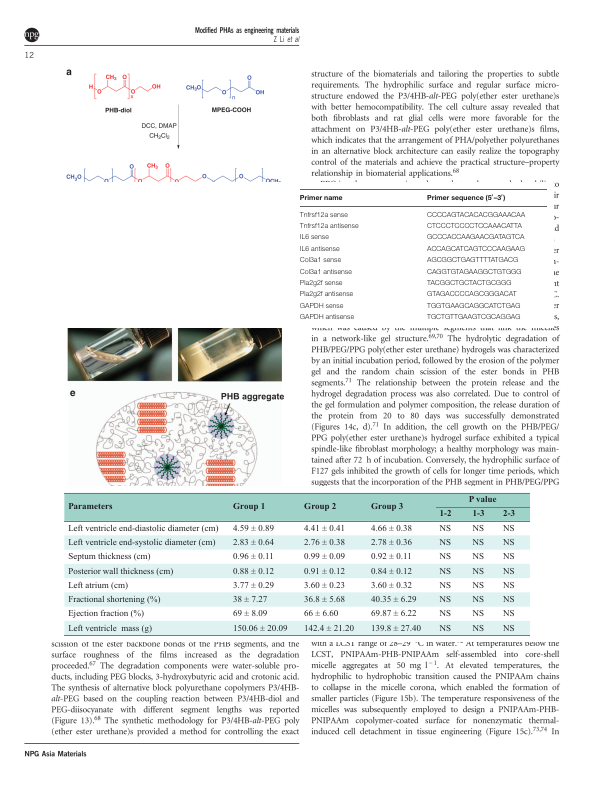borderless: (63, 491, 530, 635), (298, 187, 548, 322)
cell: (66, 524, 219, 534), (66, 538, 216, 548), (66, 567, 174, 577), (66, 595, 161, 605), (66, 552, 151, 563), (426, 211, 526, 220), (426, 245, 526, 254), (426, 222, 522, 231), (66, 624, 152, 634), (66, 609, 144, 620), (426, 313, 521, 322), (426, 256, 519, 265), (426, 234, 525, 242), (426, 279, 512, 288), (426, 268, 522, 276), (426, 302, 521, 310), (426, 291, 517, 299), (426, 194, 506, 202), (66, 581, 128, 591), (232, 624, 288, 634), (299, 222, 359, 231), (370, 609, 417, 620), (303, 624, 354, 634), (370, 624, 421, 634), (299, 313, 355, 322), (370, 595, 417, 605), (232, 552, 274, 563), (303, 552, 345, 563), (370, 552, 412, 563), (67, 503, 113, 513), (299, 211, 348, 220), (299, 291, 354, 299), (299, 268, 352, 276), (232, 524, 274, 534), (303, 524, 345, 534), (370, 524, 412, 534), (232, 538, 274, 548), (303, 538, 345, 548), (370, 538, 412, 548), (232, 567, 274, 577), (303, 567, 345, 577), (370, 567, 412, 577), (232, 581, 274, 591), (303, 581, 345, 591), (370, 581, 412, 591), (303, 595, 345, 605), (299, 279, 343, 288), (232, 609, 268, 620), (303, 609, 339, 620), (299, 256, 342, 265), (299, 245, 340, 254), (299, 302, 344, 310), (232, 595, 268, 605), (299, 194, 343, 202), (369, 503, 404, 513), (232, 503, 266, 513), (303, 503, 337, 513), (467, 496, 497, 506), (299, 234, 329, 242), (438, 552, 452, 563), (471, 552, 485, 563), (438, 609, 452, 620), (471, 609, 485, 620), (502, 552, 515, 563), (502, 609, 515, 620), (438, 510, 452, 520), (471, 510, 485, 520), (501, 510, 515, 520), (438, 524, 452, 534), (471, 524, 485, 534), (438, 538, 452, 548), (471, 538, 485, 548), (438, 567, 452, 577), (471, 567, 485, 577), (438, 581, 452, 591), (471, 581, 485, 591), (438, 595, 452, 605), (471, 595, 485, 605), (438, 624, 452, 634), (471, 624, 485, 634), (502, 524, 515, 534), (502, 538, 515, 548), (502, 567, 515, 577), (502, 581, 515, 591), (502, 595, 515, 605), (502, 624, 515, 634)
